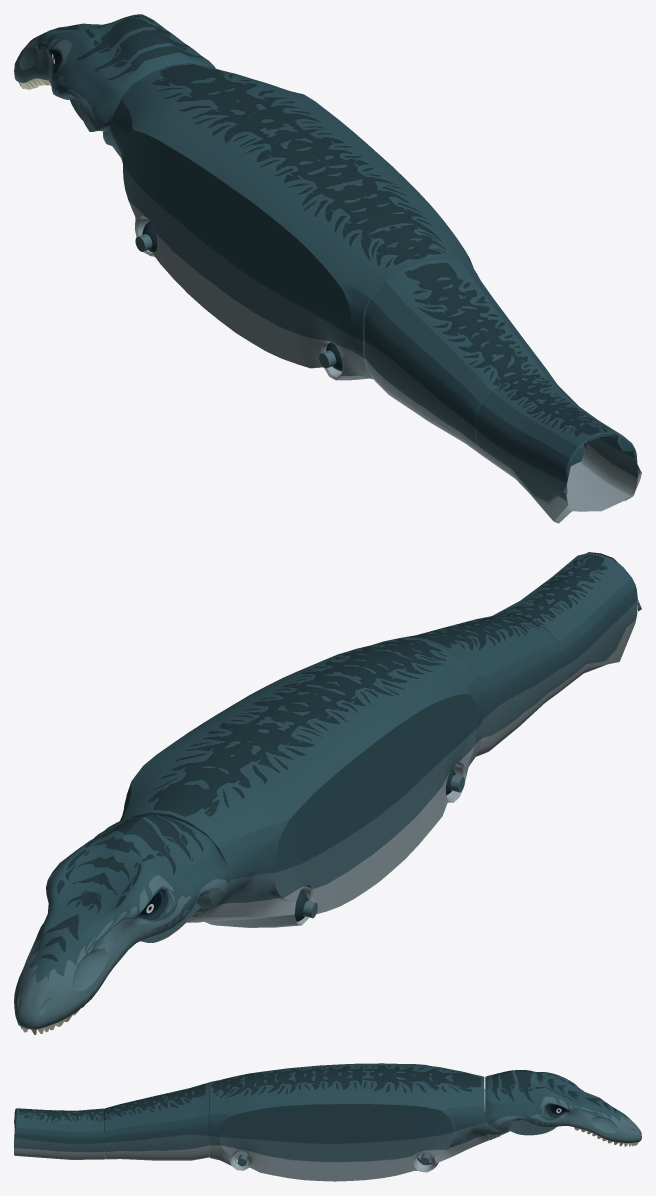
Rendered from Cuerpo.obj.
3 renders of one model, top to bottom at view 1: azimuth 30°, elevation 25°; view 2: azimuth 150°, elevation 25°; view 3: azimuth 270°, elevation 25°, orthographic. The views are drawn at different scales.
Parts seen in each view (by area): view 1: Mosasaurs:polySurface12; view 2: Mosasaurs:polySurface12; view 3: Mosasaurs:polySurface12.
Boxes of the visible parts, box(x1,y1,x2,y2) form: Mosasaurs:polySurface12: box(14, 14, 641, 523); Mosasaurs:polySurface12: box(14, 552, 641, 1034); Mosasaurs:polySurface12: box(14, 1063, 641, 1181).
Bounding box in the file's own units: 3.72 × 3.64 × 20.92.
3 materials, 3 textured.
